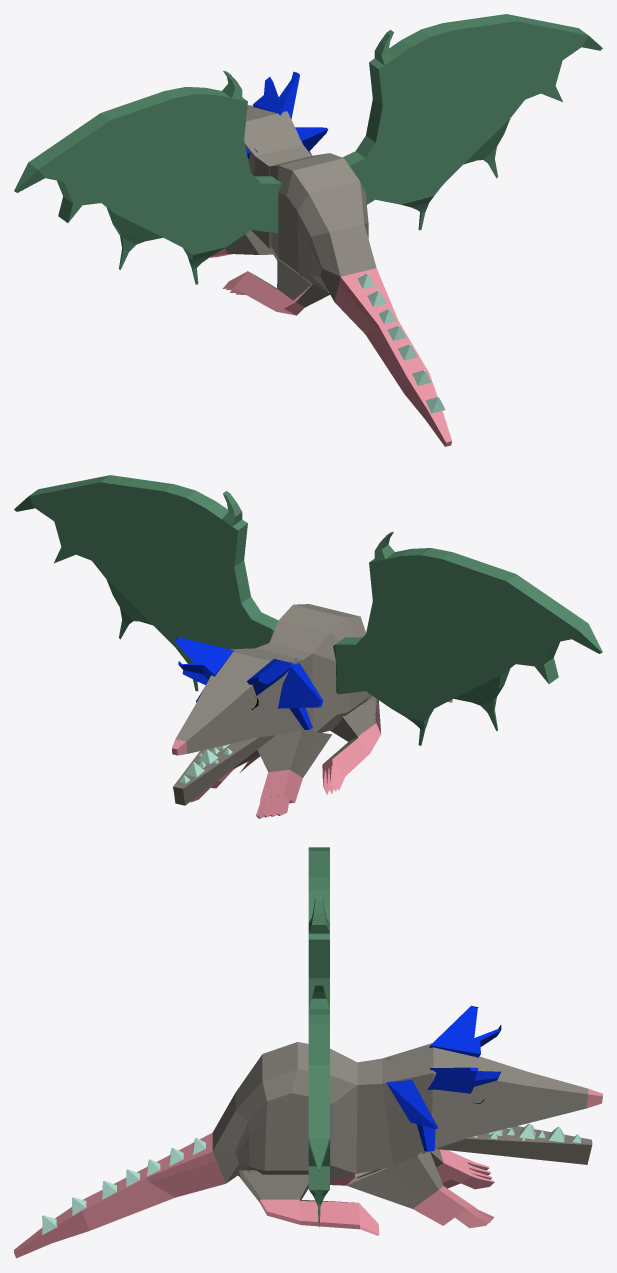
File: Dragon.fbx
3 renders of one model, top to bottom at view 1: azimuth 30°, elevation 25°; view 2: azimuth 150°, elevation 25°; view 3: azimuth 270°, elevation 25°, orthographic. The views are drawn at different scales.
Parts seen in each view (by area): view 1: Cube.007; view 2: Cube.007; view 3: Cube.007.
Boxes of the visible parts, box(x1,y1,x2,y2) form: Cube.007: box(14, 14, 602, 446); Cube.007: box(14, 475, 602, 818); Cube.007: box(14, 847, 602, 1258).
Bounding box in the file's own units: 2288 × 1086 × 1835.
